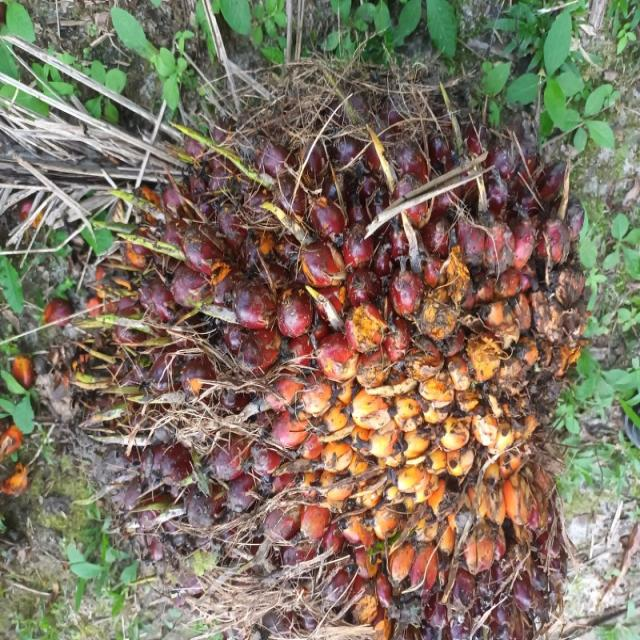fraksi 1: (60, 8, 585, 564)
